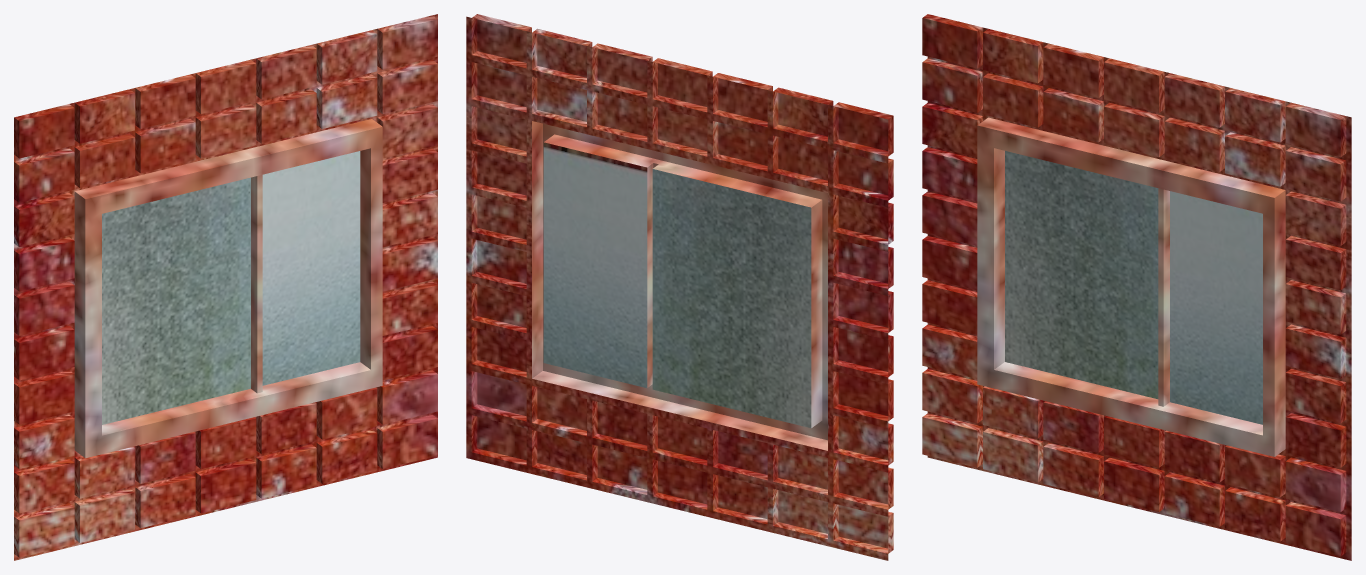
The model's file is Ventana_03.fbx.
3 renders of one model, left to right at view 1: azimuth 30°, elevation 25°; view 2: azimuth 150°, elevation 25°; view 3: azimuth 330°, elevation 25°, orthographic.
Visible parts, largest first — view 1: Plane.002; view 2: Plane.002; view 3: Plane.002.
Part boxes in pixels (left/top/right/bottom): Plane.002: left=14, top=14, right=437, bottom=560; Plane.002: left=466, top=14, right=893, bottom=560; Plane.002: left=922, top=14, right=1351, bottom=560.
Size of the model in its own units: 600 by 600 by 26.61.
